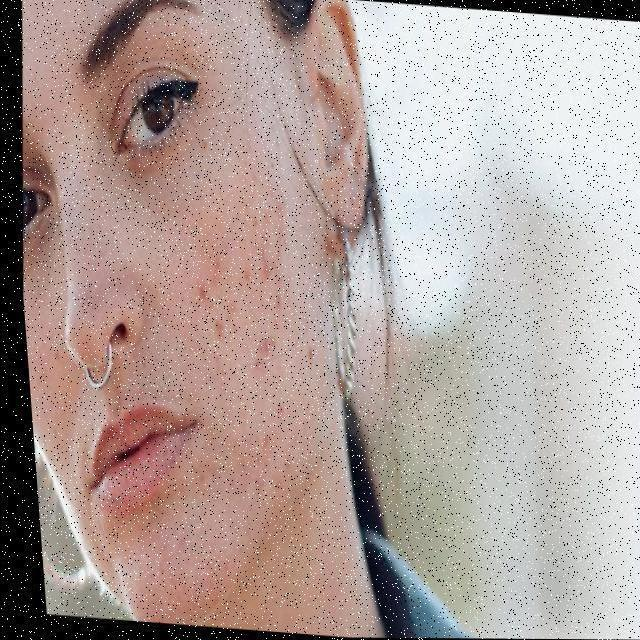Acne: (192, 148, 314, 476)
